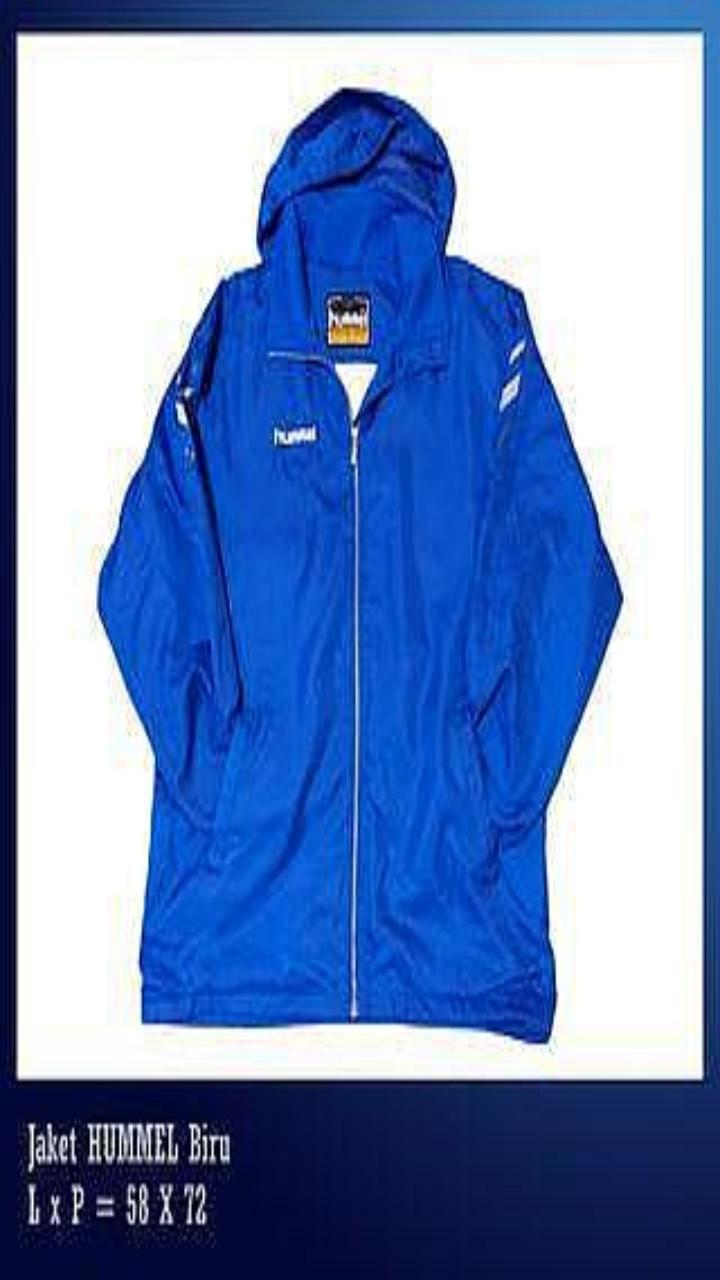Sports_Jacket: (99, 90, 620, 1040)
